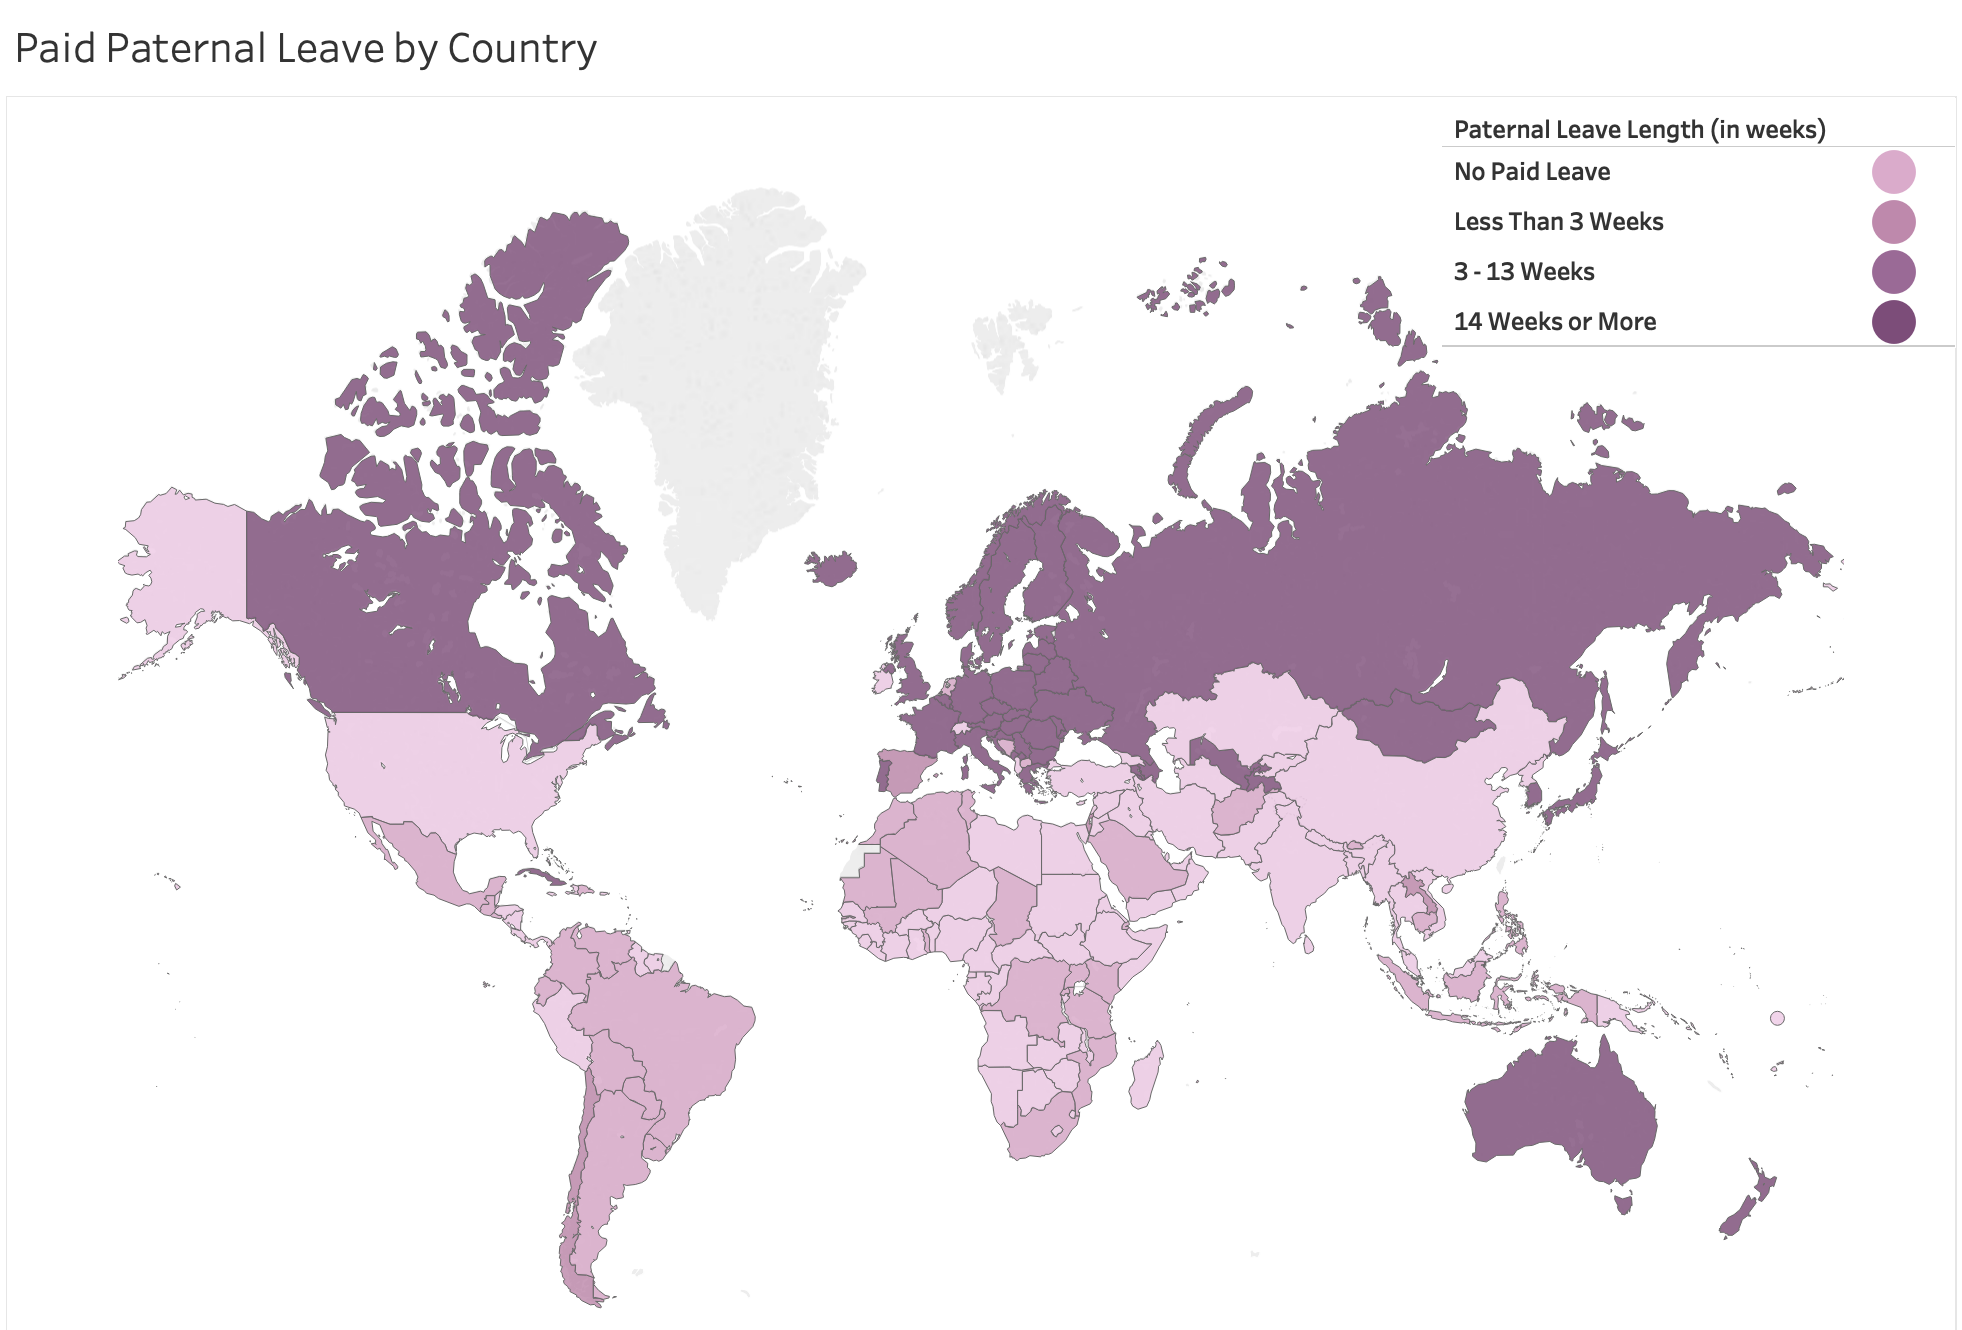

What the dashboard file says about the page in this screenshot:
{"tool":"tableau","page":{"name":"Final Viz","canvas":[1000,800],"ordinal":0},"visuals":[{"type":"title","box":[8,8,984,42]},{"type":"worksheet","title":"Paid Paternal Leave by Country","mark":"Automatic","box":[8,50,824,742]},{"type":"legend","title":"Paid Paternal Leave by Country","param":"[federated.1ii23bc1if8saa1e7fsih1u0kq45].[sum:paternal_leave:qk]","box":[832,50,160,65]},{"type":"worksheet","title":"Legend","mark":"Shape","rows":["Calculation_129689614300327936"],"box":[548,98,315,120]},{"type":"legend","title":"Legend","param":"[federated.1ii23bc1if8saa1e7fsih1u0kq45].[Paternal Leave Length (in weeks) (grou","box":[832,115,160,106]}]}

Visuals, with their boxes on the page's 1000x800 design canvas (x1, y1, x2, y2). These are canvas units, not pixel positions in the 1962x1330 screenshot, which may show the page scaled, cropped or inside an application window:
title: rect(8, 8, 992, 50)
"Paid Paternal Leave by Country" worksheet: rect(8, 50, 832, 792)
"Paid Paternal Leave by Country" legend: rect(832, 50, 992, 115)
"Legend" worksheet (Shape marks): rect(548, 98, 863, 218)
"Legend" legend: rect(832, 115, 992, 221)
